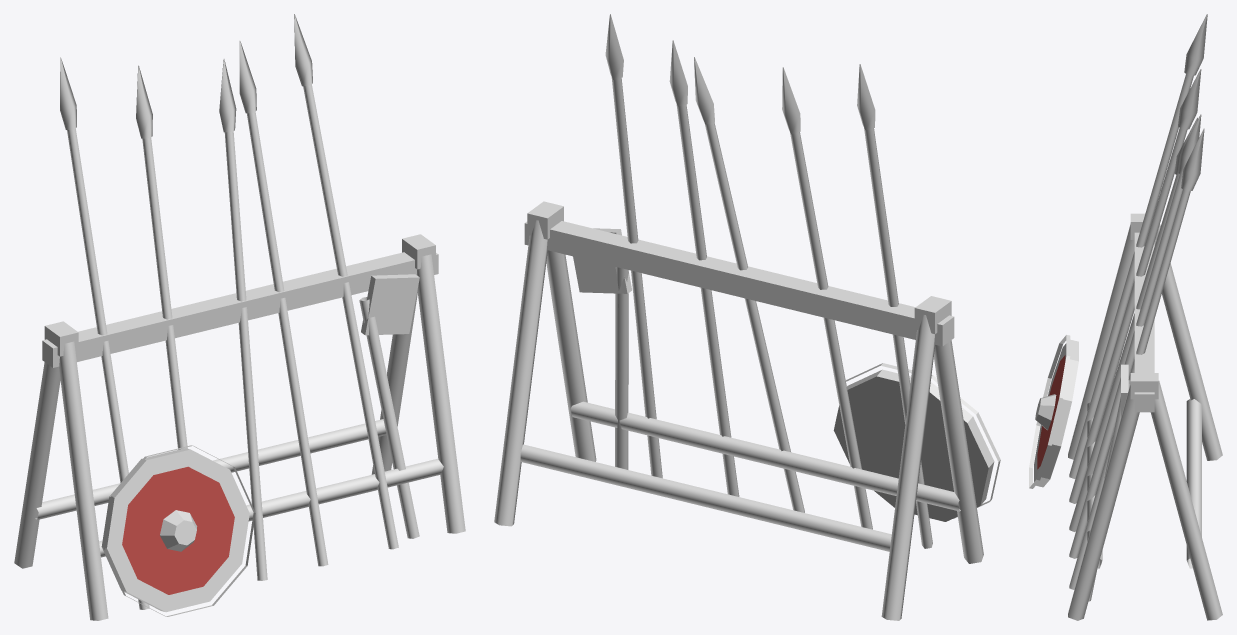
Rendered from weapon_rack.glb.
3 renders of one model, left to right at view 1: azimuth 30°, elevation 25°; view 2: azimuth 150°, elevation 25°; view 3: azimuth 270°, elevation 25°, orthographic. The views are drawn at different scales.
Visible parts, largest first — view 1: weapon_rack; view 2: weapon_rack; view 3: weapon_rack.
Boxes of the visible parts, x1,y1,x2,y2 form: weapon_rack: (14,14,465,620); weapon_rack: (494,14,1000,620); weapon_rack: (1029,14,1222,620).
Bounding box in the file's own units: 2.05 × 2.55 × 0.9756.
